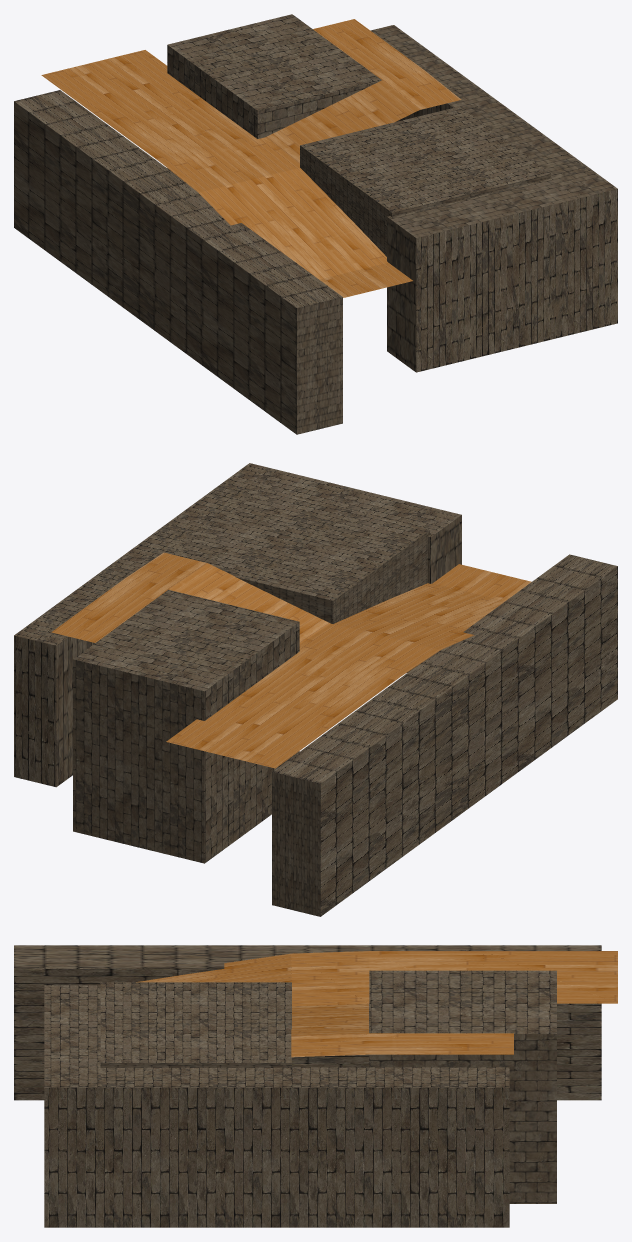
The picture shows the model from 3 angles, top to bottom: view 1: azimuth 30°, elevation 25°; view 2: azimuth 150°, elevation 25°; view 3: azimuth 270°, elevation 25°; orthographic projection. The views are drawn at different scales.
Visible parts, largest first — view 1: Cube.003, Cube.001, Plane, Cube, Cube.002; view 2: Cube.003, Cube.002, Plane, Cube.001, Cube; view 3: Cube.001, Cube.002, Plane, Cube.003, Cube.
Part boxes in pixels (<box>): Cube.003: <box>14,90,342,434</box>; Cube.001: <box>370,25,617,372</box>; Plane: <box>41,19,461,297</box>; Cube: <box>300,106,551,256</box>; Cube.002: <box>167,14,381,172</box>; Cube.003: <box>272,554,617,916</box>; Cube.002: <box>73,590,299,863</box>; Plane: <box>51,552,531,768</box>; Cube.001: <box>14,463,461,787</box>; Cube: <box>173,489,429,623</box>; Cube.001: <box>44,985,509,1227</box>; Cube.002: <box>369,970,556,1203</box>; Plane: <box>136,951,617,1057</box>; Cube.003: <box>14,945,601,1100</box>; Cube: <box>100,982,291,1067</box>.
Size of the model in its own units: 482 by 229 by 723.
2 materials, 2 textured.
